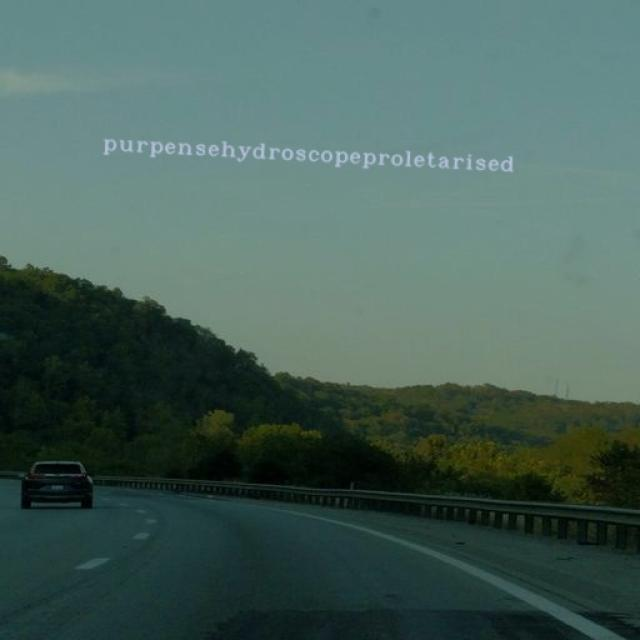watermark: (96, 132, 530, 174)
